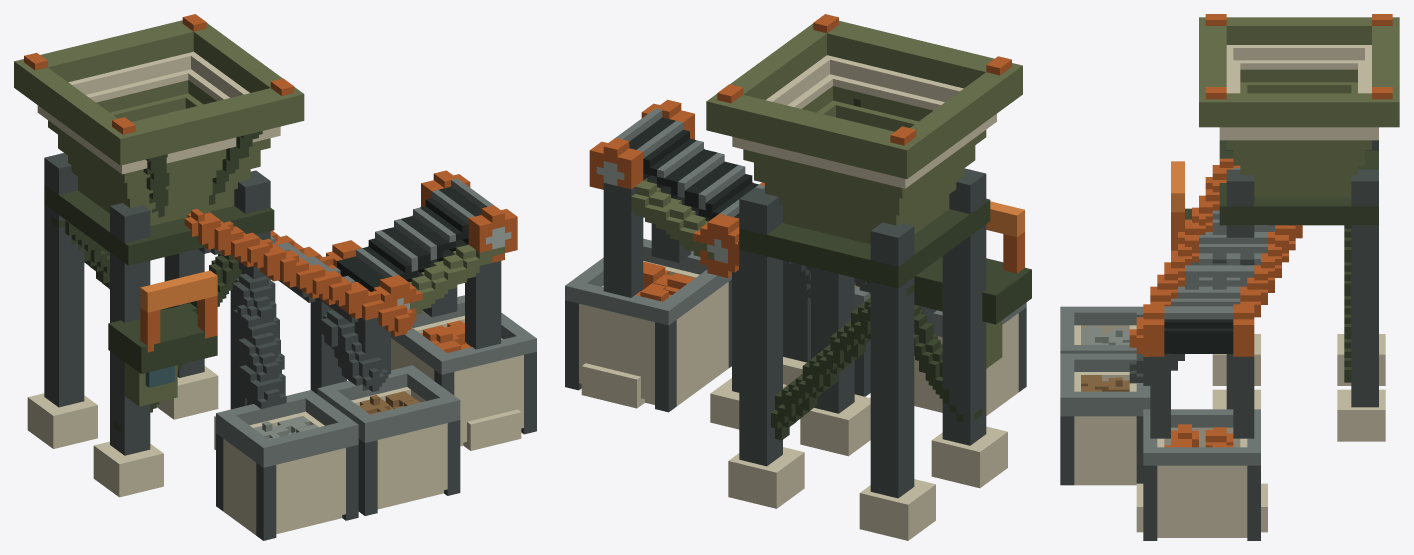
File: ore_sorter.glb
3 views of the same model, side by side, from view 1: azimuth 30°, elevation 25°; view 2: azimuth 150°, elevation 25°; view 3: azimuth 270°, elevation 25° (orthographic). The views are drawn at different scales.
Parts seen in each view (by area): view 1: ore_sorter; view 2: ore_sorter; view 3: ore_sorter.
Boxes of the visible parts, x1,y1,x2,y2 form: ore_sorter: (14, 14, 536, 540); ore_sorter: (565, 14, 1031, 540); ore_sorter: (1060, 14, 1399, 540).
Bounding box in the file's own units: 4.88 × 4.48 × 3.92.
